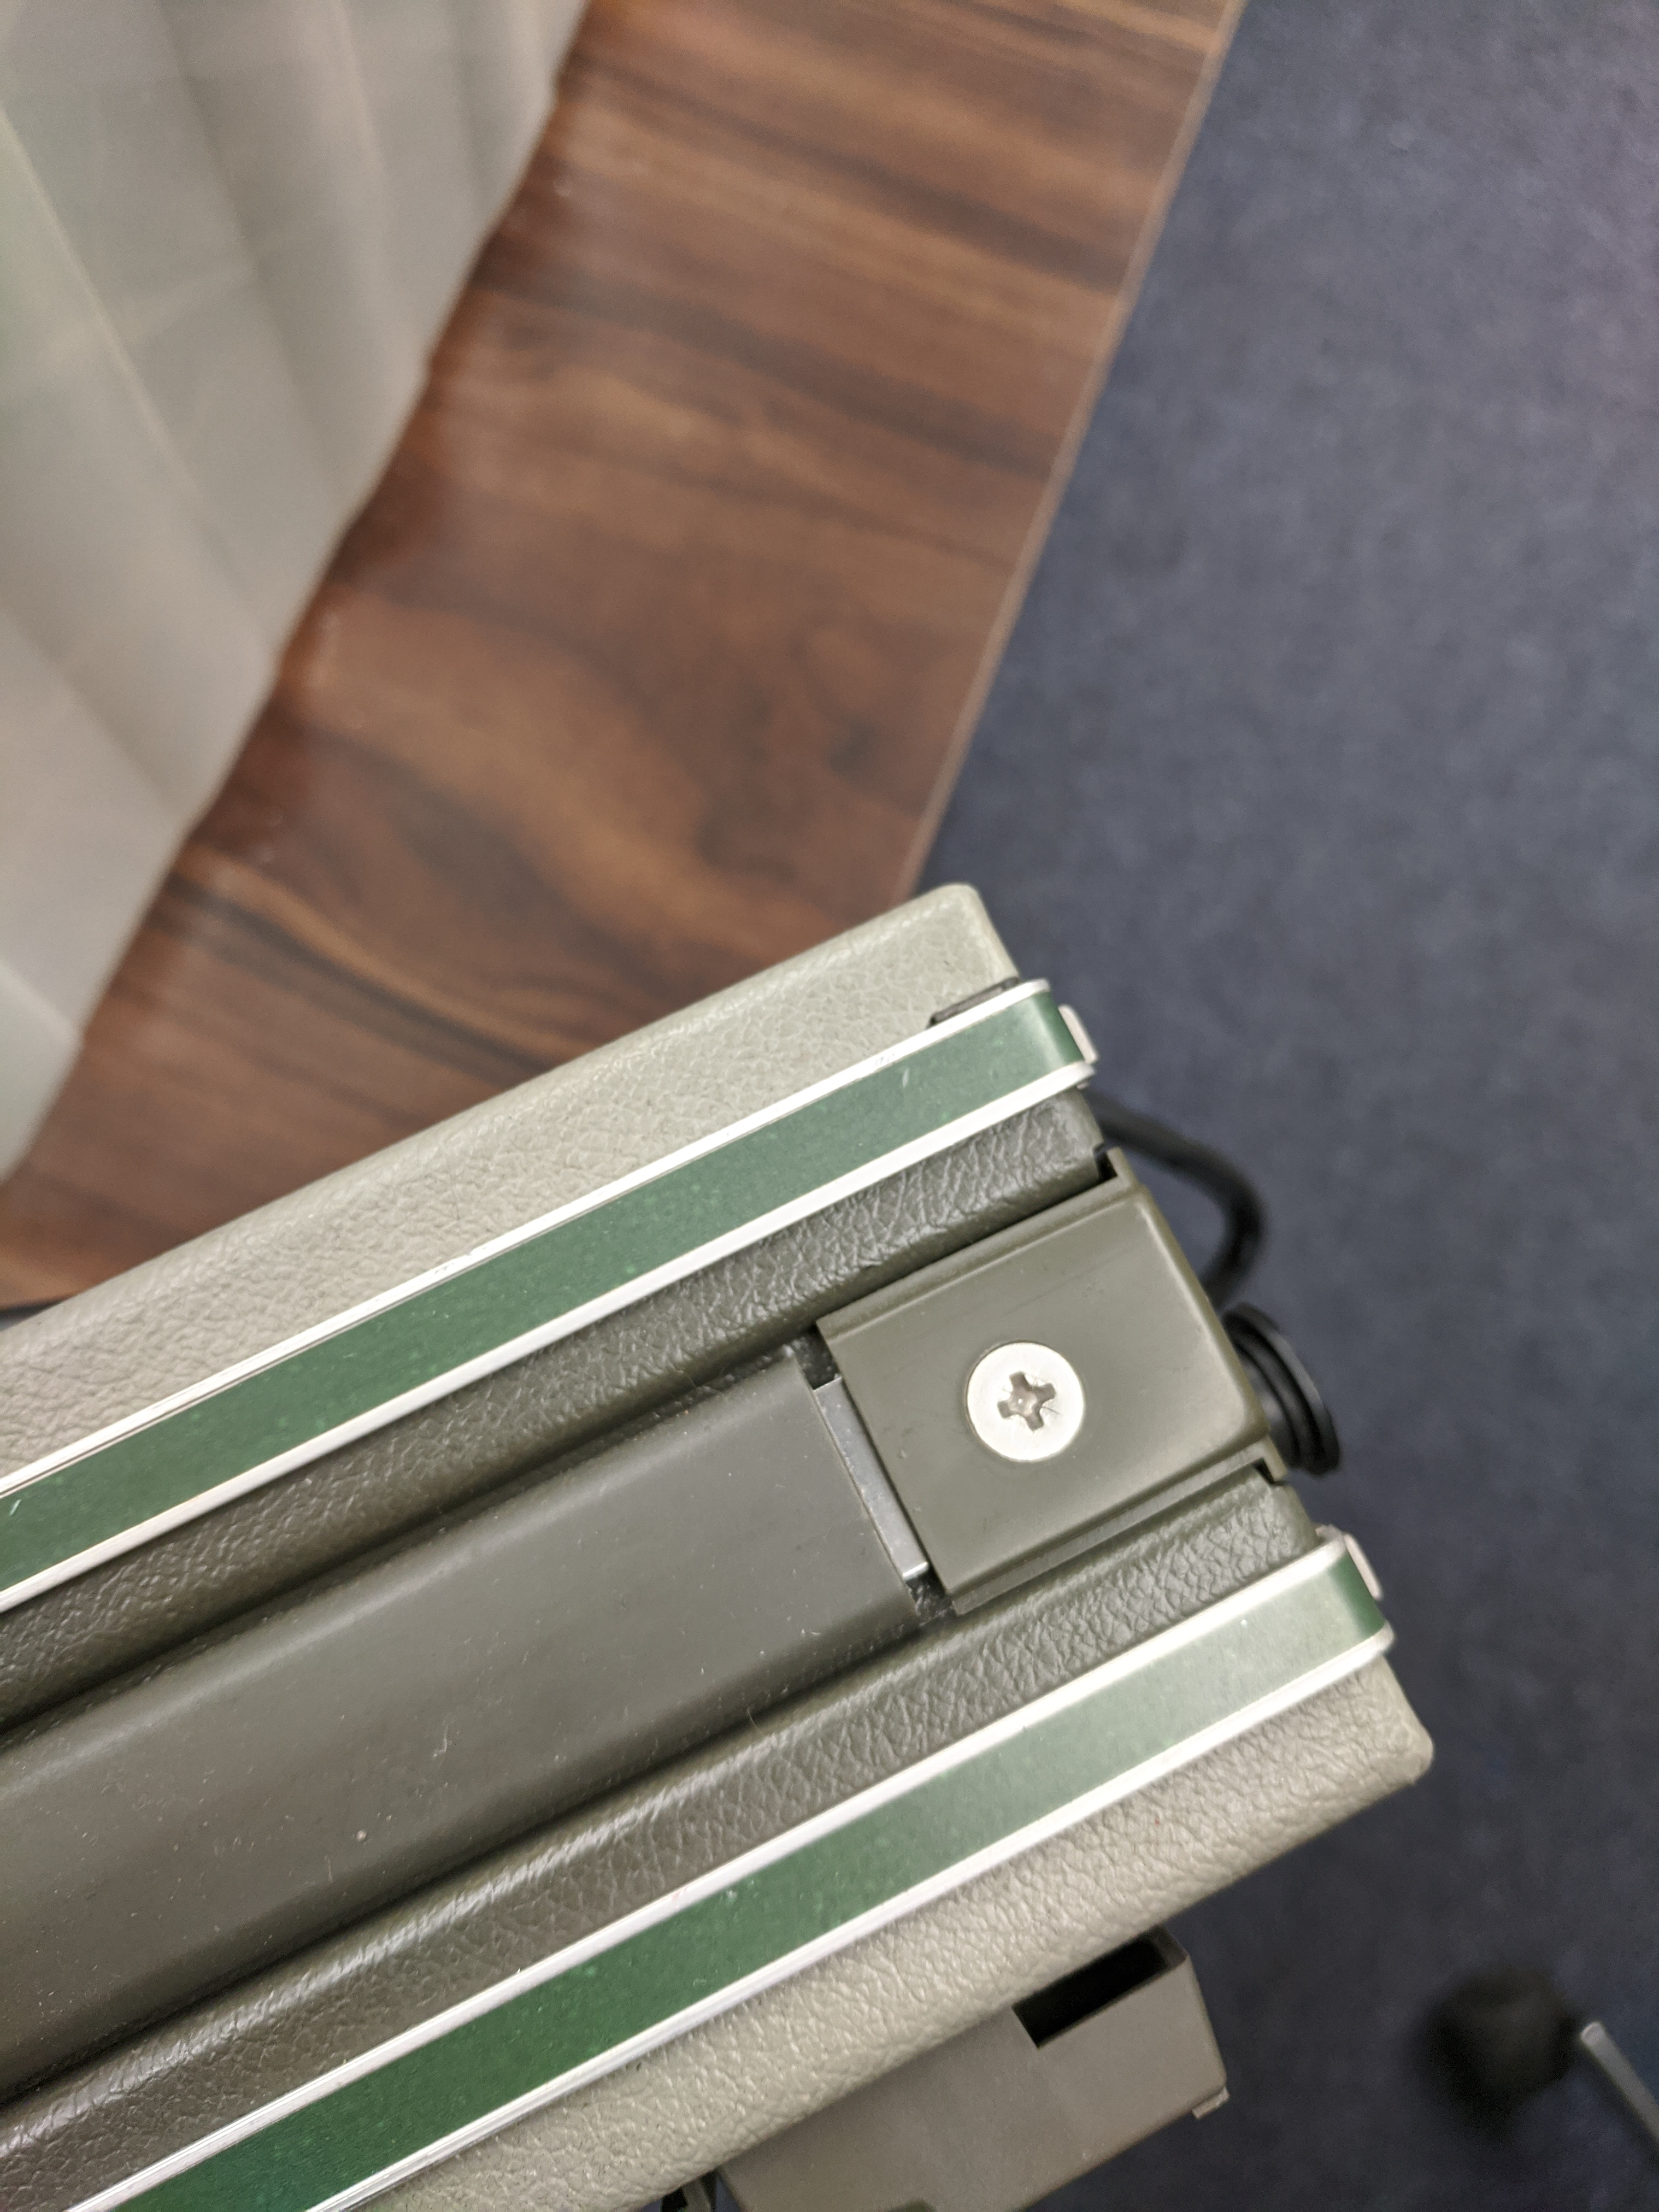cross_recessed_screw: (955, 1343, 1094, 1454)
